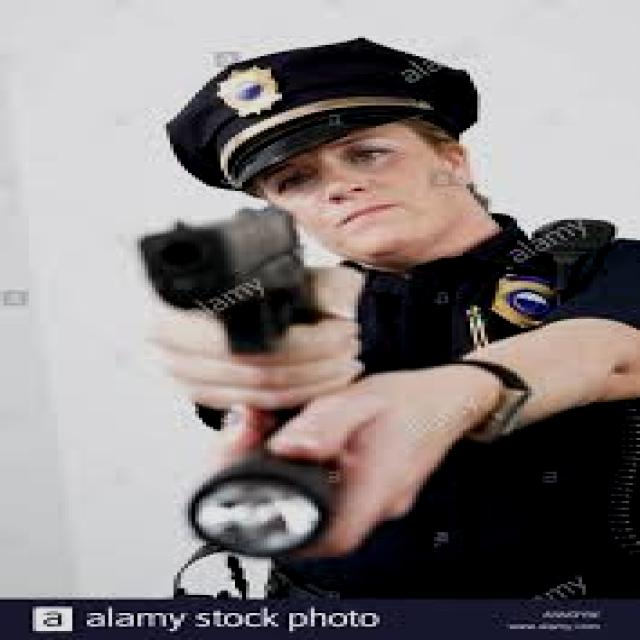pistol: (120, 195, 326, 366)
